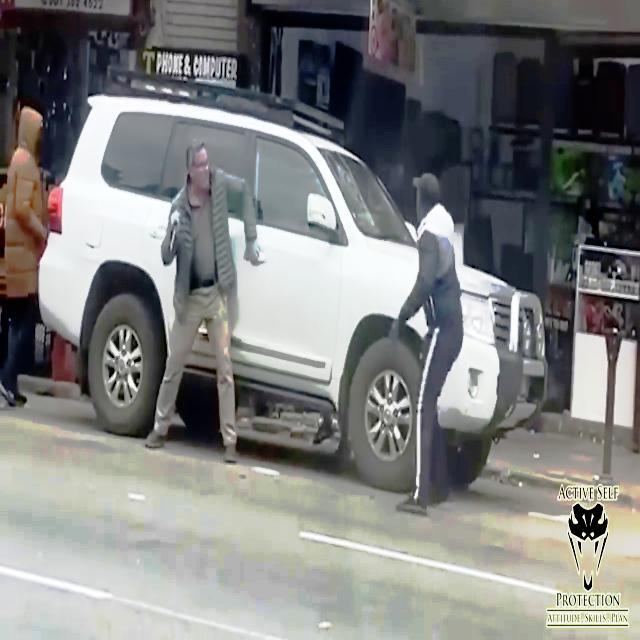Knife: (398, 216, 424, 249)
